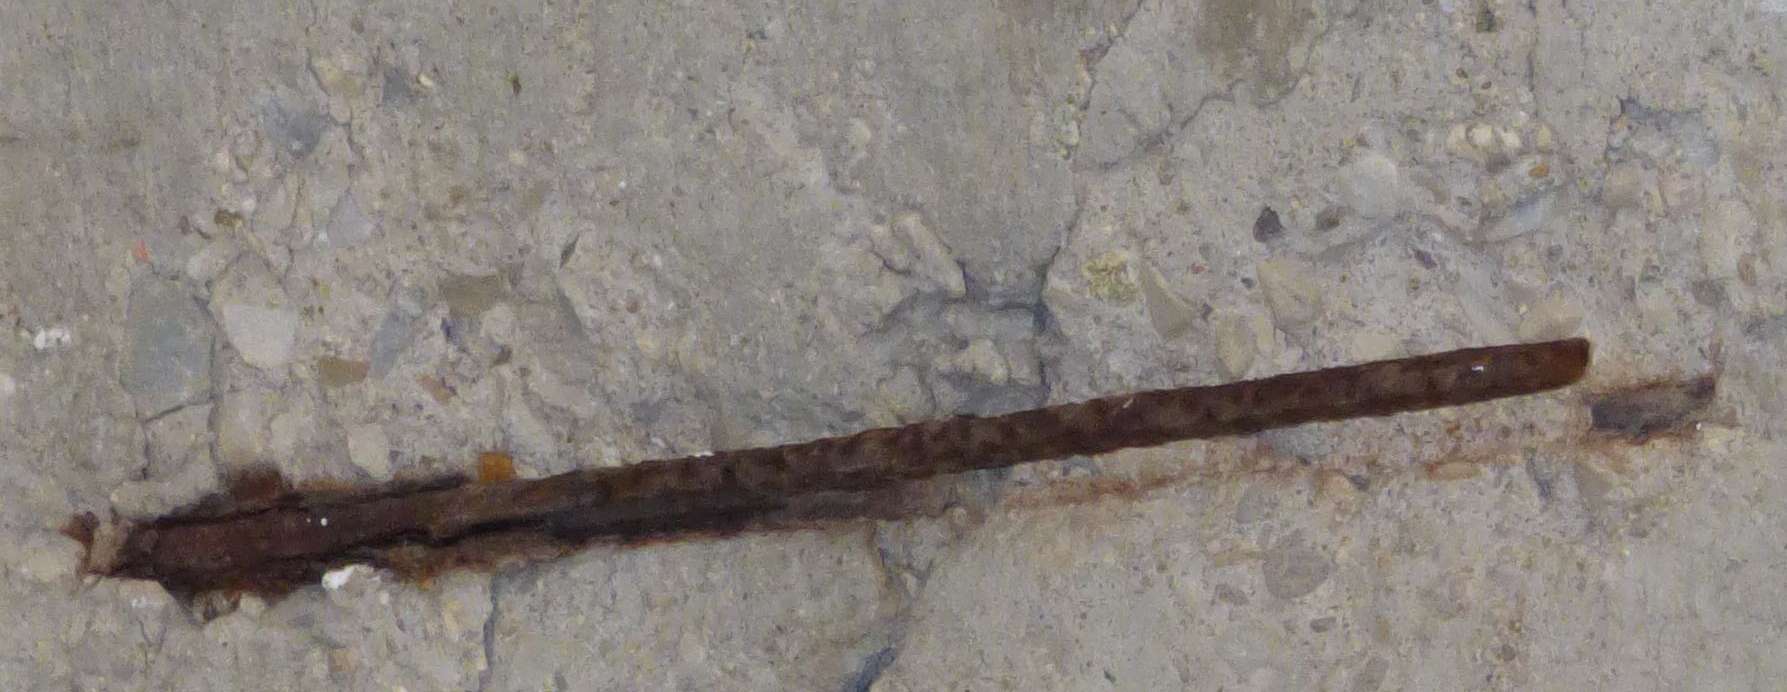Exposed reinforcement: (99, 331, 1591, 592)
